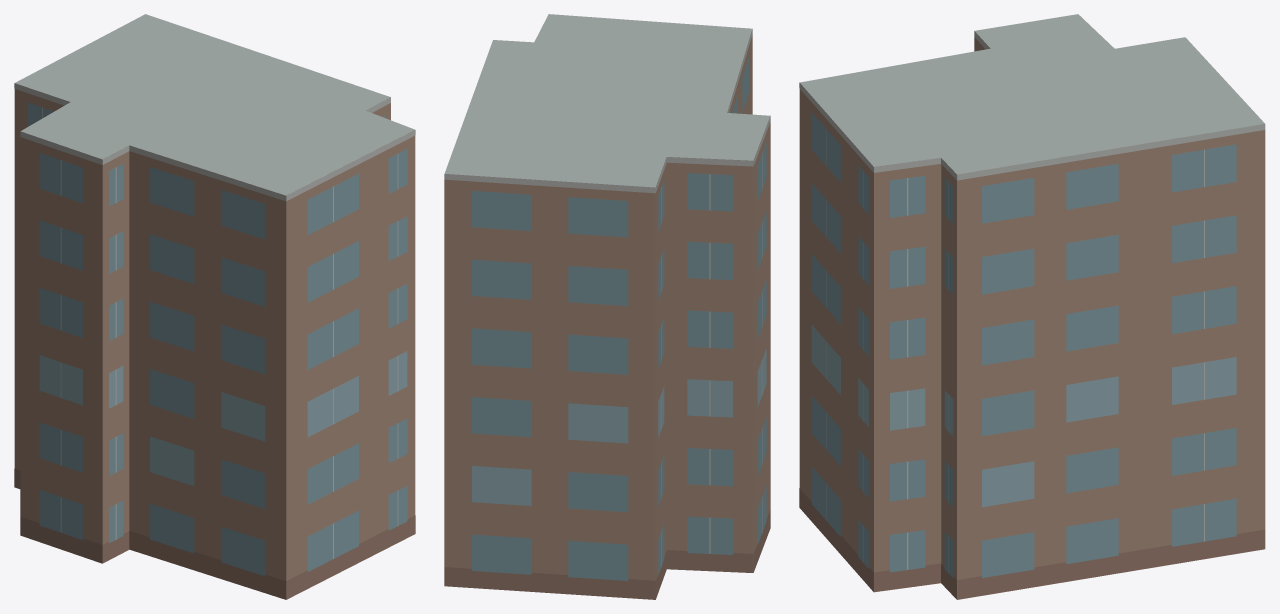
The model's file is survey-upis-33036801.glb.
3 renders of one model, left to right at view 1: azimuth 30°, elevation 25°; view 2: azimuth 150°, elevation 25°; view 3: azimuth 270°, elevation 25°, orthographic. The views are drawn at different scales.
Visible parts, largest first — view 1: survey-upis-33036801.tmp; view 2: survey-upis-33036801.tmp; view 3: survey-upis-33036801.tmp.
Part boxes in pixels (box(x1,y1,x2,y2)): survey-upis-33036801.tmp: box(14, 14, 415, 599); survey-upis-33036801.tmp: box(444, 14, 770, 599); survey-upis-33036801.tmp: box(799, 14, 1265, 599).
Bounding box in the file's own units: 14.06 × 17.35 × 17.23.
